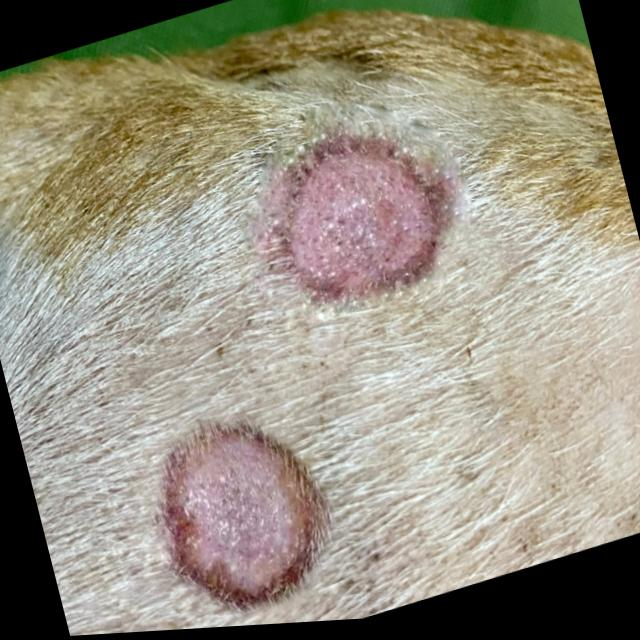ringworm: (239, 83, 482, 355), (136, 385, 351, 631)
